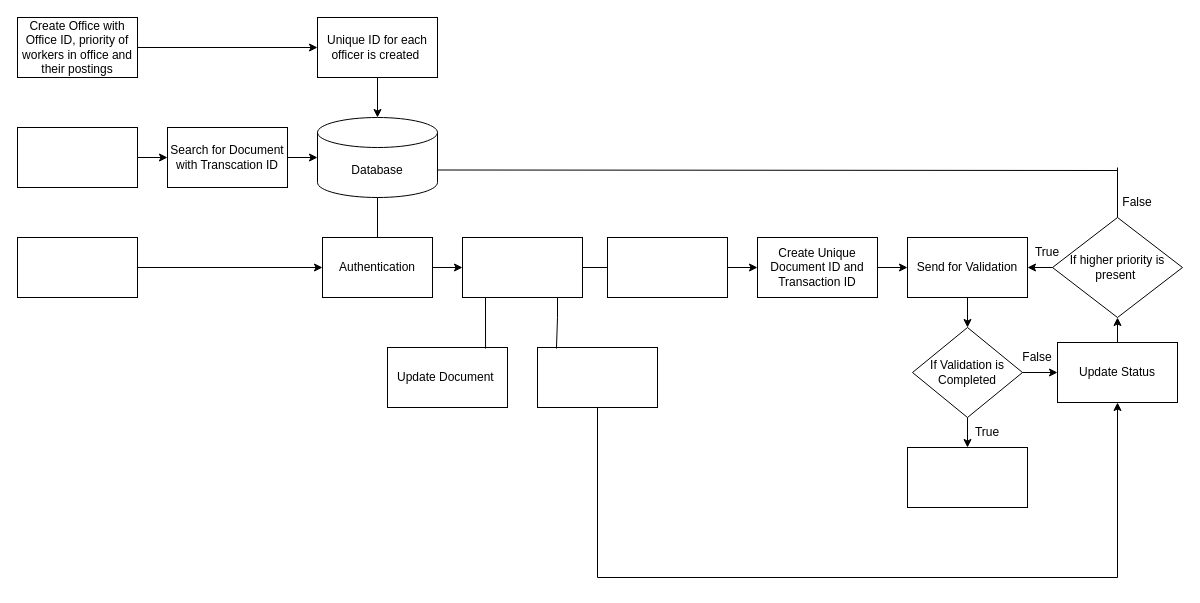
Some shapes in this 1200 by 603 pixel diagram are drawn without their labels. Here are the shapes that lost their labels. From the top down, the centre of each, then its label:
At [77,157]: "User Login with Phone number".
At [77,267]: "Admin login using Officer ID".
At [522,267]: "Dashboard".
At [667,267]: "Create Document".
At [597,377]: "Validate Document".
At [967,477]: "Change status as".
